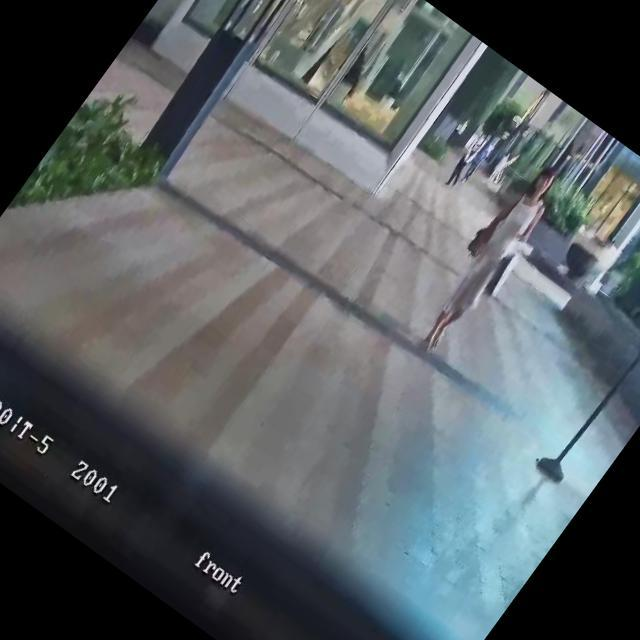person: (408, 150, 574, 354), (441, 132, 489, 190), (458, 133, 500, 185)
